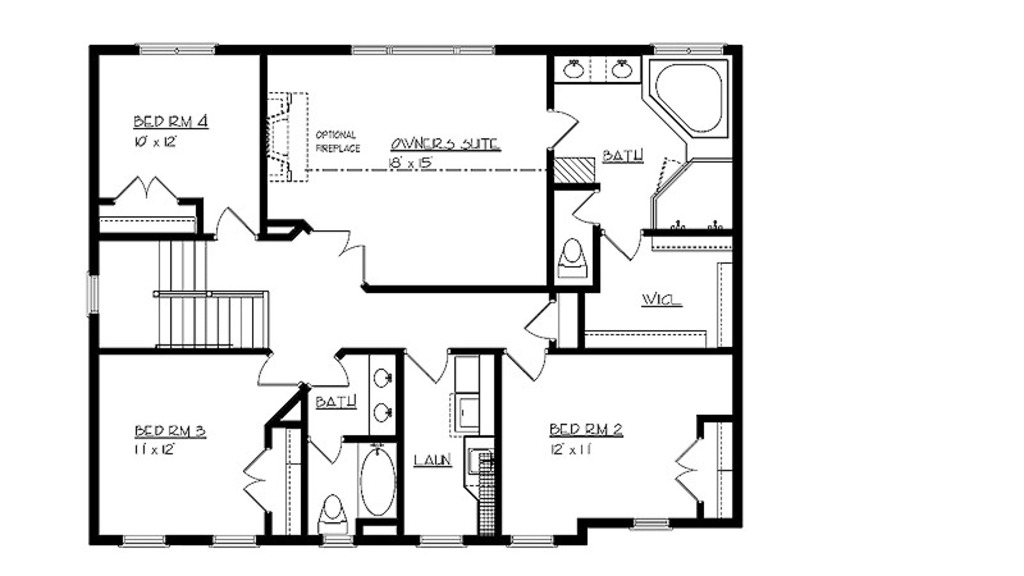door: (308, 222, 372, 285), (670, 430, 702, 511), (240, 443, 276, 513), (501, 343, 554, 386), (116, 171, 185, 202), (539, 105, 582, 154), (400, 346, 455, 384), (601, 228, 652, 267), (526, 289, 560, 343), (211, 208, 257, 242), (255, 352, 293, 388), (306, 433, 345, 468), (304, 358, 349, 388), (571, 189, 606, 223)
large_sink: (312, 487, 354, 537), (555, 234, 590, 285)
small_sink: (560, 54, 644, 84), (366, 356, 397, 430)
stairs: (110, 240, 276, 354)
tub: (357, 440, 402, 517)
window: (354, 34, 494, 64), (133, 38, 216, 56), (80, 267, 105, 319), (653, 39, 725, 57), (114, 532, 177, 549), (204, 531, 259, 550), (417, 530, 466, 551), (511, 530, 557, 549), (631, 514, 672, 531), (321, 536, 361, 550)
